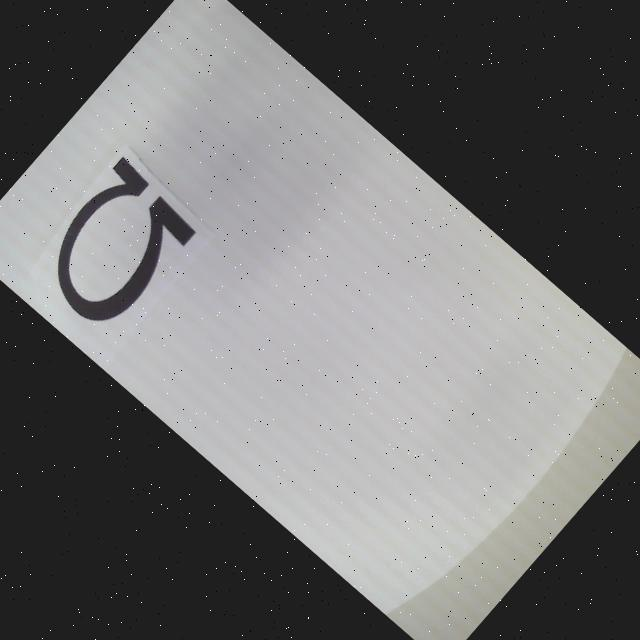OMEGA: (25, 156, 202, 337)
